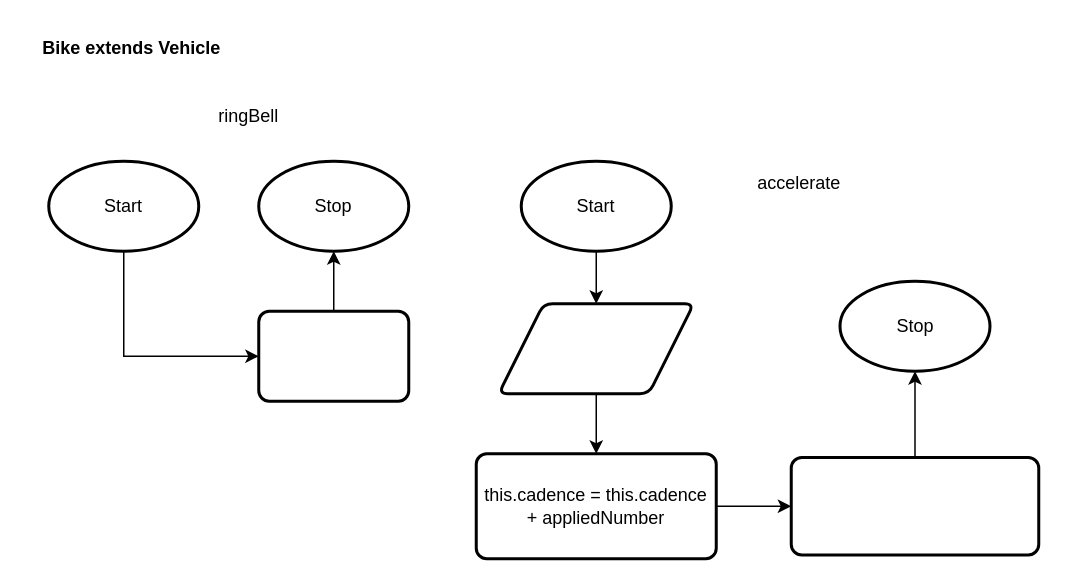
The diagram is 1065 pixels wide and 585 high, and some of its shapes have lost their labels. The centre of each missing label's shape, as x and y in pixels:
console.log( "Ding ding!\n"): point (333, 355)
Get appliedNumber: point (595, 348)
this.speed = this.speed + appliedNumber + appliedNumber: point (914, 505)
